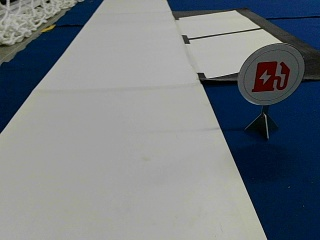battery: (237, 42, 304, 105)
